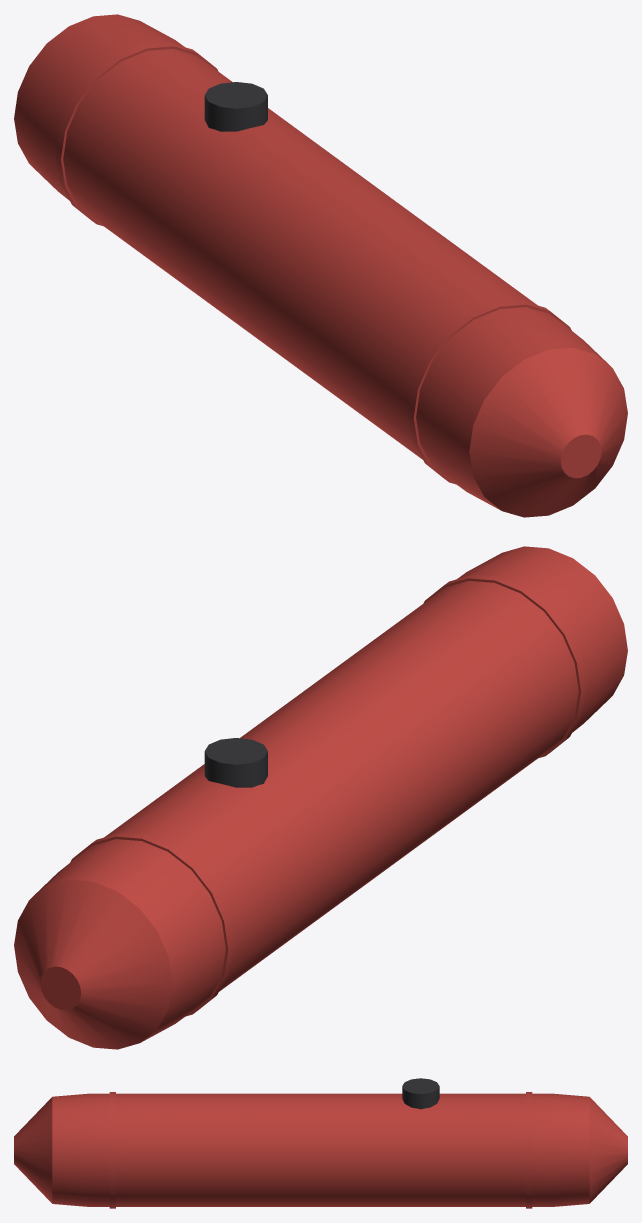
Rendered from fuel_cell.glb.
3 views of the same model, one above another, from view 1: azimuth 30°, elevation 25°; view 2: azimuth 150°, elevation 25°; view 3: azimuth 270°, elevation 25° (orthographic). The views are drawn at different scales.
Parts seen in each view (by area): view 1: lod0; view 2: lod0; view 3: lod0.
Part boxes in pixels (x1,y1,x2,y2): lod0: (14, 14, 627, 517); lod0: (14, 546, 627, 1049); lod0: (14, 1078, 627, 1208).
Size of what is drawn, in the model's own units: 0.113 by 0.1245 by 0.59.
